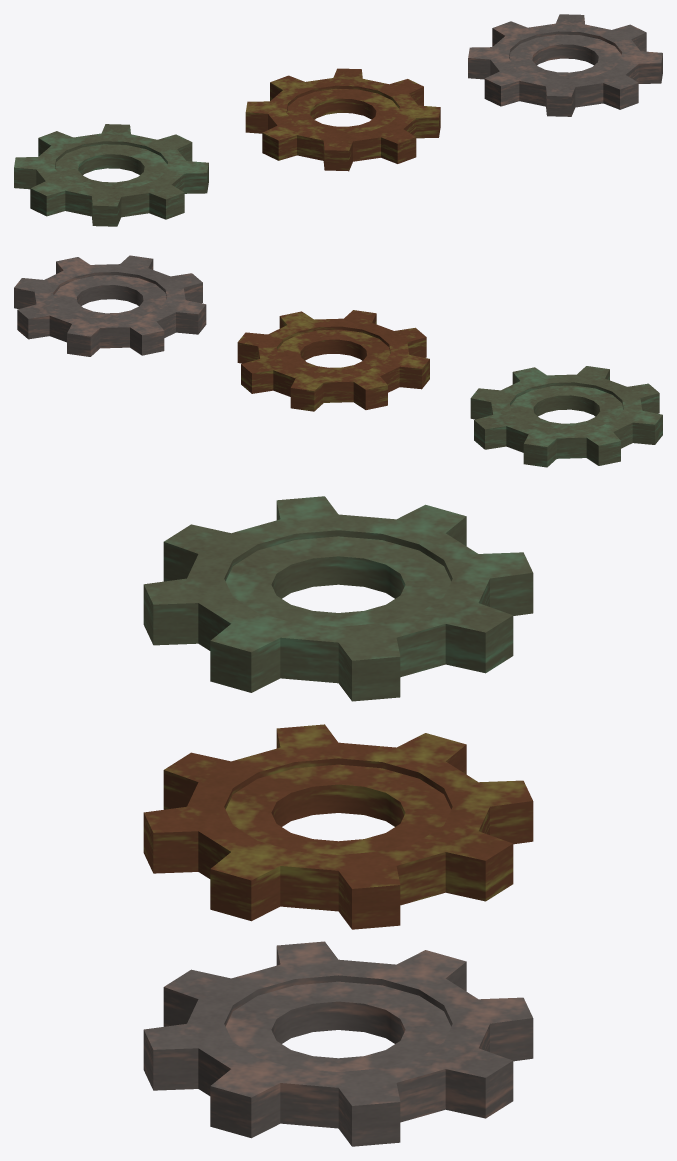
The model's file is Gear.fbx.
3 renders of one model, top to bottom at view 1: azimuth 30°, elevation 25°; view 2: azimuth 150°, elevation 25°; view 3: azimuth 270°, elevation 25°, orthographic. The views are drawn at different scales.
Parts seen in each view (by area): view 1: Gear_1, Gear_2, Gear_3; view 2: Gear_1, Gear_2, Gear_3; view 3: Gear_2, Gear_3, Gear_1.
Boxes of the visible parts, x1,y1,x2,y2 form: Gear_1: (245, 68, 440, 171); Gear_2: (14, 124, 208, 226); Gear_3: (468, 14, 662, 116); Gear_1: (237, 310, 429, 411); Gear_2: (470, 366, 662, 467); Gear_3: (14, 255, 206, 356); Gear_2: (143, 496, 533, 701); Gear_3: (143, 941, 533, 1146); Gear_1: (143, 724, 533, 929).
Size of the model in its own units: 2.56 by 0.0839 by 0.6938.
